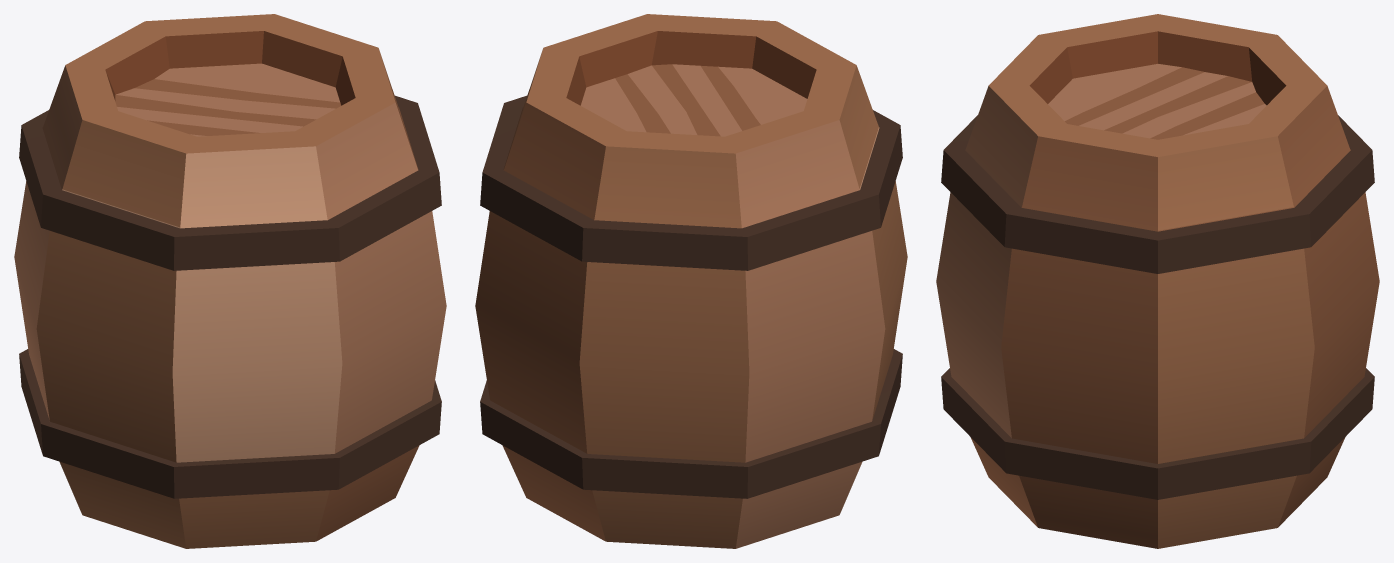
The model's file is thunggo.fbx.
3 views of the same model, side by side, from view 1: azimuth 30°, elevation 25°; view 2: azimuth 150°, elevation 25°; view 3: azimuth 270°, elevation 25° (orthographic).
Visible parts, largest first — view 1: thunggo; view 2: thunggo; view 3: thunggo.
Boxes of the visible parts, x1,y1,x2,y2 form: thunggo: (14,14,446,548); thunggo: (475,14,907,548); thunggo: (936,14,1379,548).
Bounding box in the file's own units: 254 × 247 × 254.
